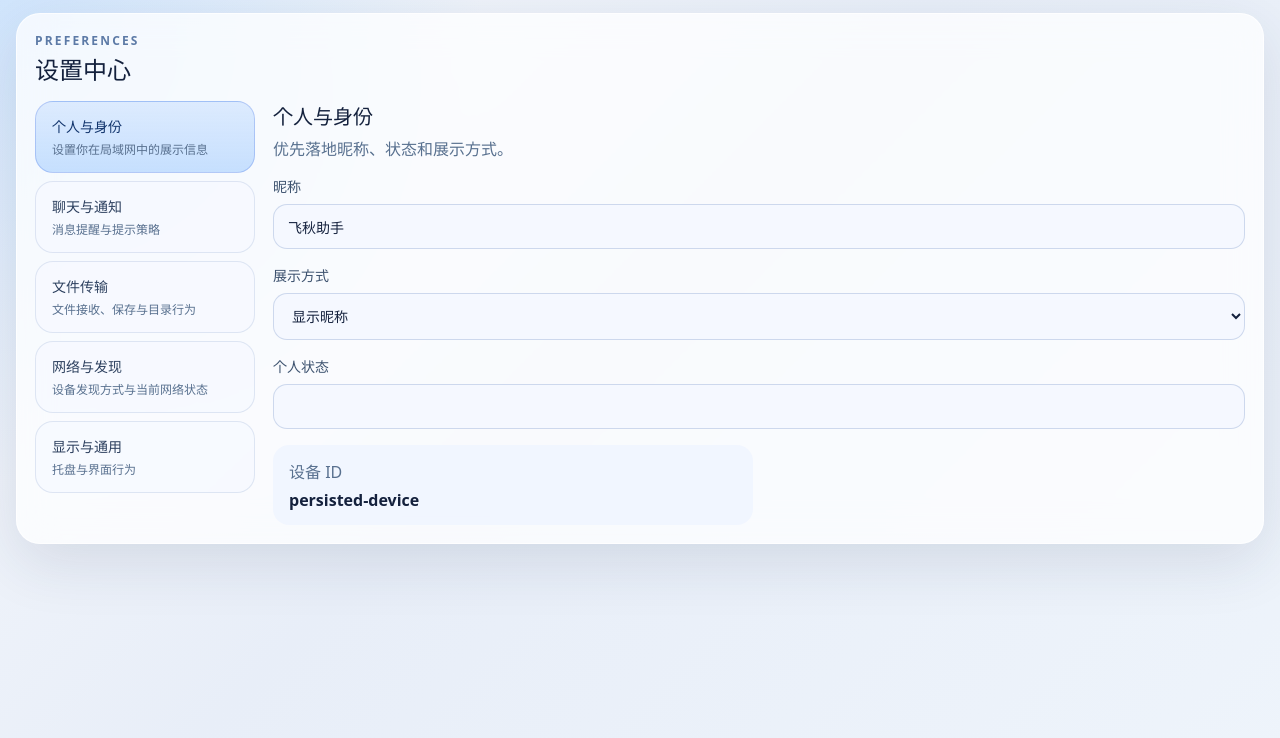
Test: clicking consecutive failure summary card focuses failed history and opens the latest detail
The image size is (1280, 738).
Click the button "网络与发现 设备发现方式与当前网络状态": (145, 377) [35,341,255,413]
(page scrolled)
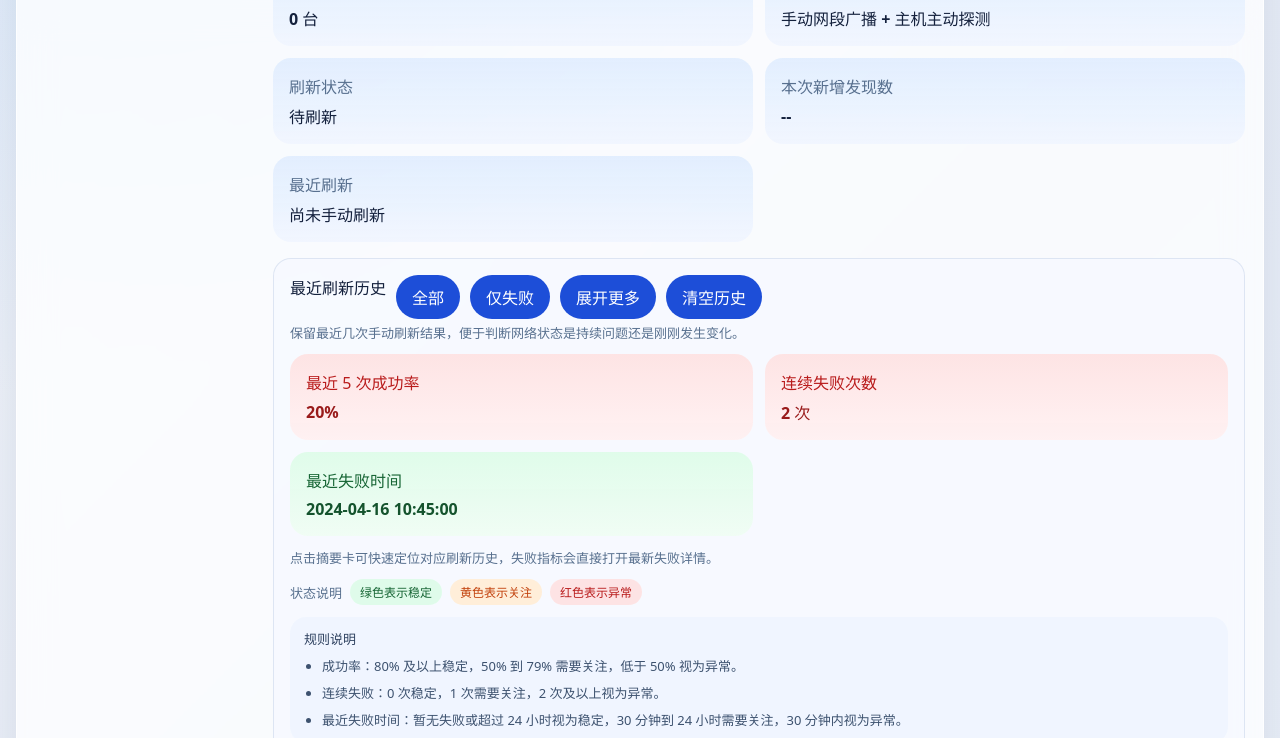
Click the button "连续失败次数 2 次": (829, 383) [781,370,1212,424]
(page scrolled)
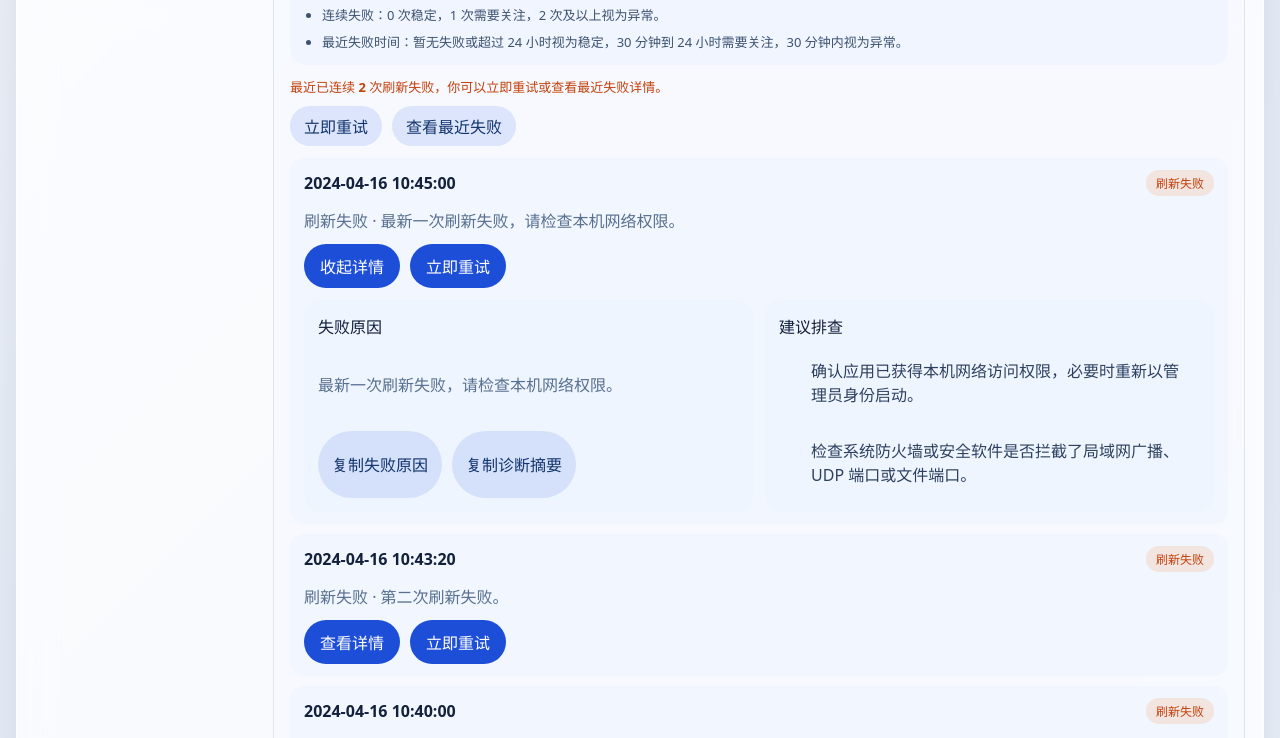
Result: the text "失败原因" is shown at [318,316,382,338]
Result: the text "最新一次刷新失败，请检查本机网络权限。" is shown at [318,374,622,396]
